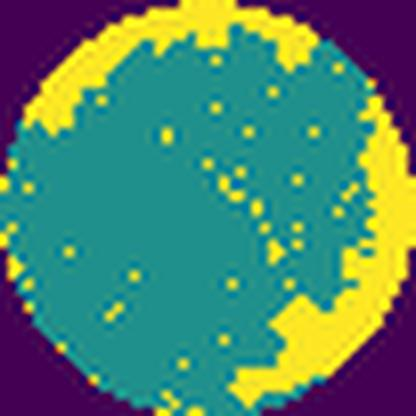Edge-Loc: (223, 93, 416, 410), (20, 0, 322, 137)
